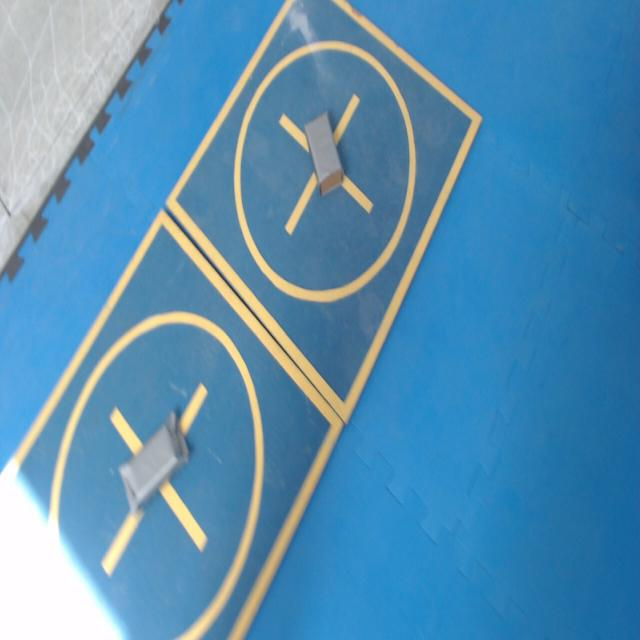lipo: (119, 412, 188, 514), (306, 112, 342, 195)
